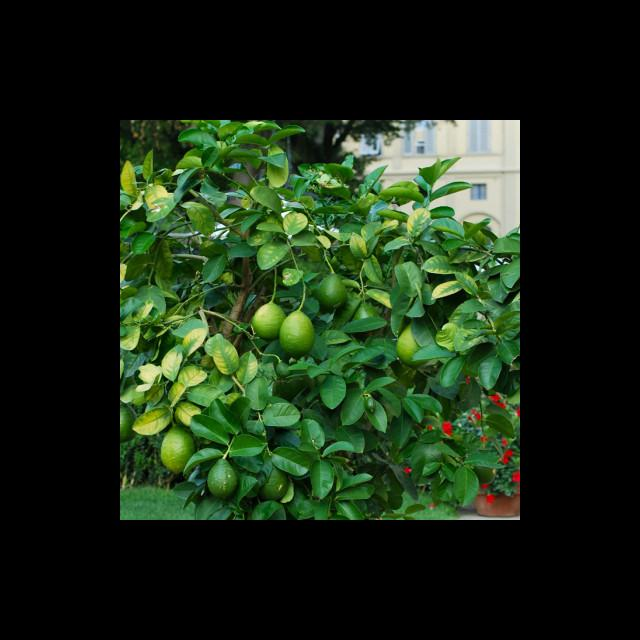lime: (309, 274, 359, 316), (160, 421, 197, 477), (278, 311, 316, 361), (205, 454, 241, 502), (251, 302, 288, 343)
